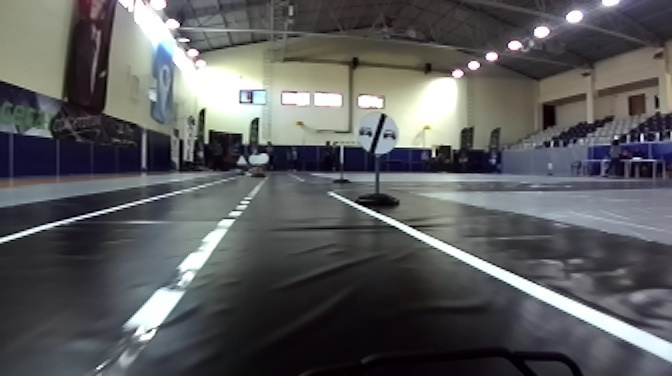sollama_serbest: (359, 113, 399, 157)
